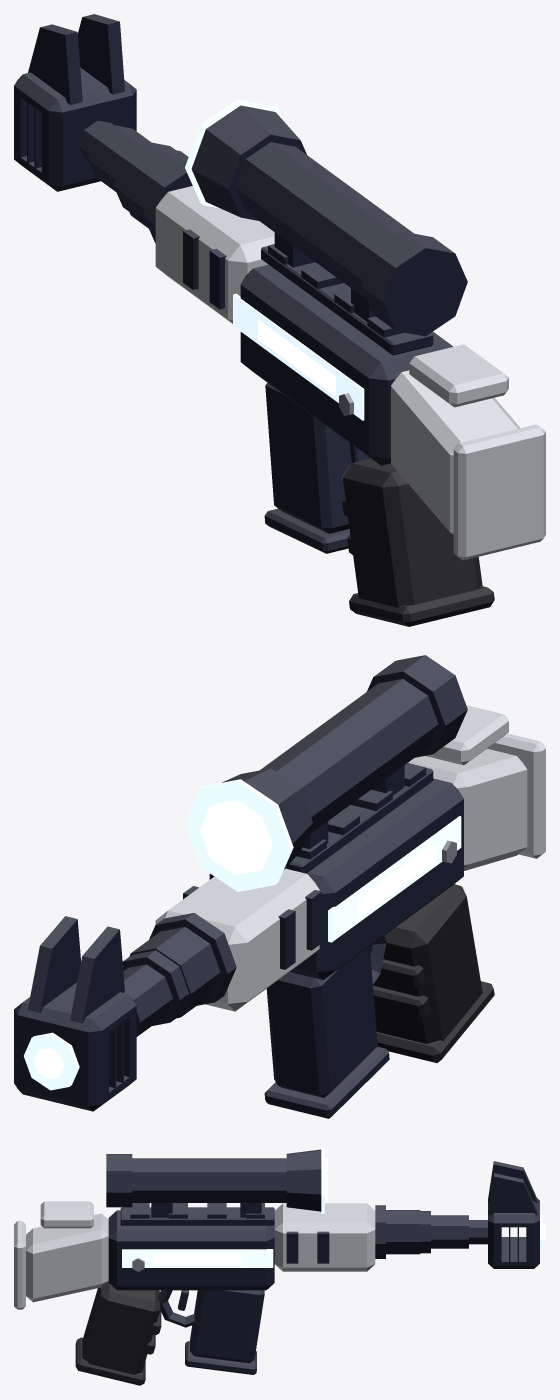
Rendered from Marksman.glb.
3 renders of one model, top to bottom at view 1: azimuth 30°, elevation 25°; view 2: azimuth 150°, elevation 25°; view 3: azimuth 270°, elevation 25°, orthographic. The views are drawn at different scales.
Parts seen in each view (by area): view 1: Body, Halo_Glow, Accent_Glow; view 2: Body, Halo_Glow, Accent_Glow; view 3: Body, Halo_Glow, Accent_Glow.
Part boxes in pixels (box(x1,y1,x2,y2)): Body: box(14, 14, 545, 626); Halo_Glow: box(185, 99, 364, 420); Accent_Glow: box(258, 320, 335, 395); Body: box(14, 655, 545, 1118); Halo_Glow: box(24, 779, 461, 1090); Accent_Glow: box(34, 800, 436, 1078); Body: box(14, 1149, 539, 1385); Halo_Glow: box(122, 1147, 542, 1267); Accent_Glow: box(153, 1158, 545, 1264).
Bounding box in the file's own units: 0.61 × 2.1 × 4.49.
